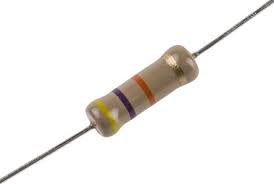resistor: (69, 33, 221, 161)
